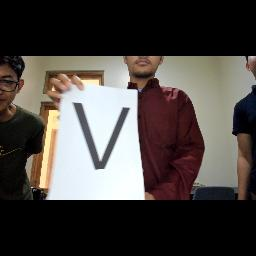v: (68, 99, 138, 177)
